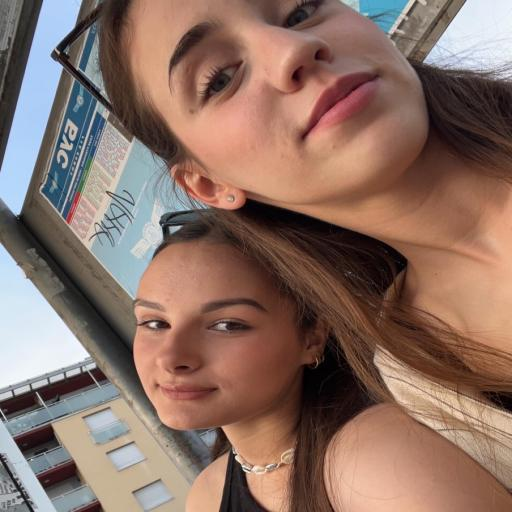marija: (124, 236, 314, 428)
masa: (115, 2, 442, 207)
